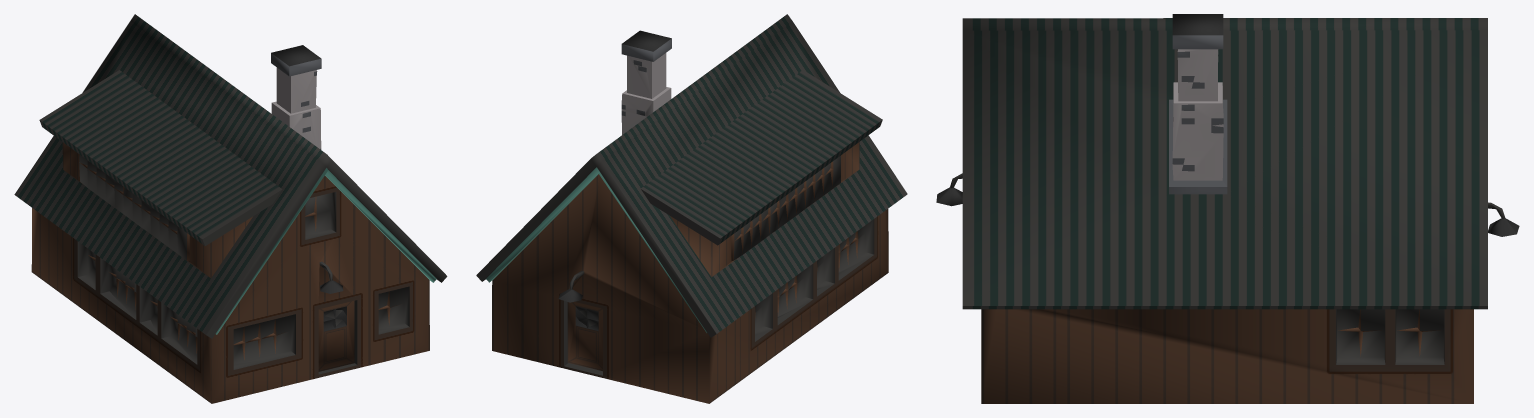
The model's file is decimatedCabin0.5.glb.
3 views of the same model, side by side, from view 1: azimuth 30°, elevation 25°; view 2: azimuth 150°, elevation 25°; view 3: azimuth 270°, elevation 25° (orthographic). The views are drawn at different scales.
Parts seen in each view (by area): view 1: Cabin.005; view 2: Cabin.005; view 3: Cabin.005.
Boxes of the visible parts, box(x1,y1,x2,y2) form: Cabin.005: box(14, 14, 447, 403); Cabin.005: box(476, 14, 907, 403); Cabin.005: box(936, 14, 1519, 403).
Bounding box in the file's own units: 0.1219 × 0.1208 × 0.1863.
Materials: 1 (1 with a texture image).
